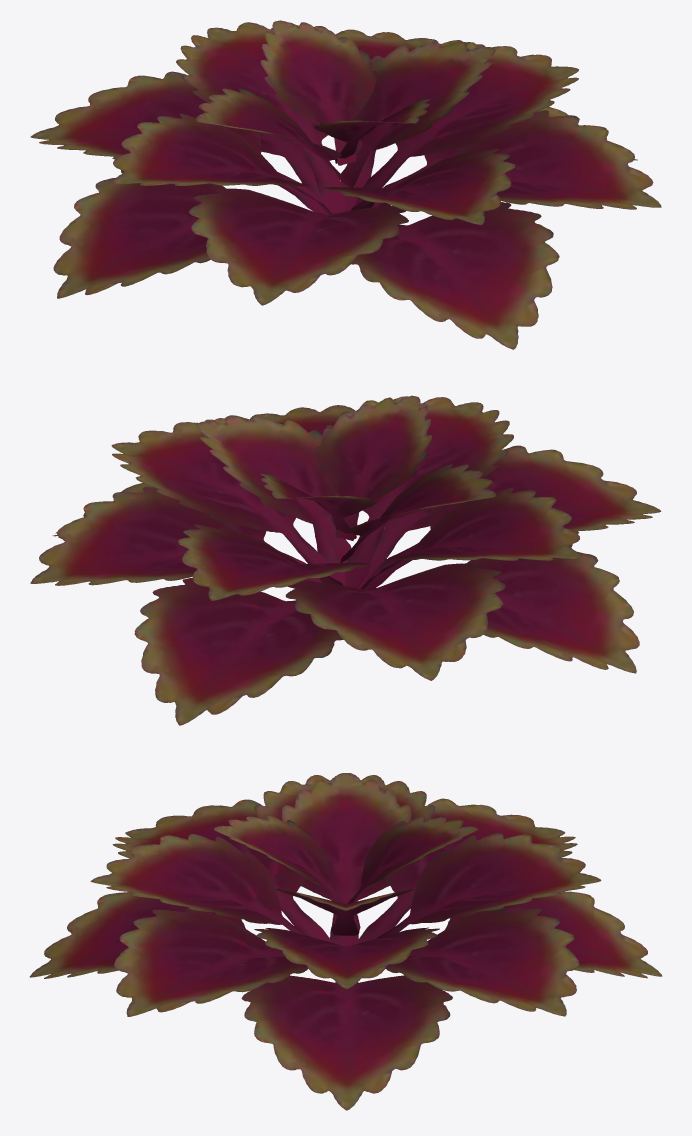
The model's file is coleus.glb.
3 views of the same model, one above another, from view 1: azimuth 30°, elevation 25°; view 2: azimuth 150°, elevation 25°; view 3: azimuth 270°, elevation 25° (orthographic). The views are drawn at different scales.
Bounding box in the file's own units: 10.23 × 2.64 × 10.23.
Materials: 1 (1 with a texture image).
